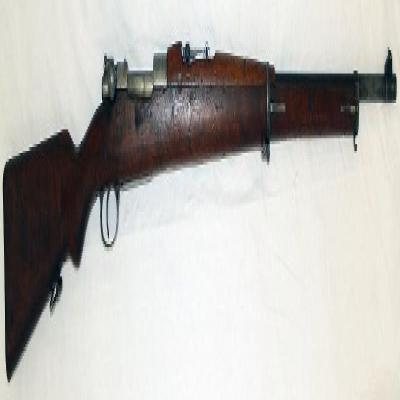weapon: (2, 41, 396, 376)
